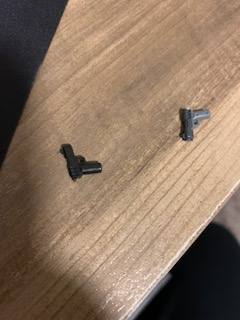pistol: (55, 141, 108, 181), (177, 105, 212, 145)
